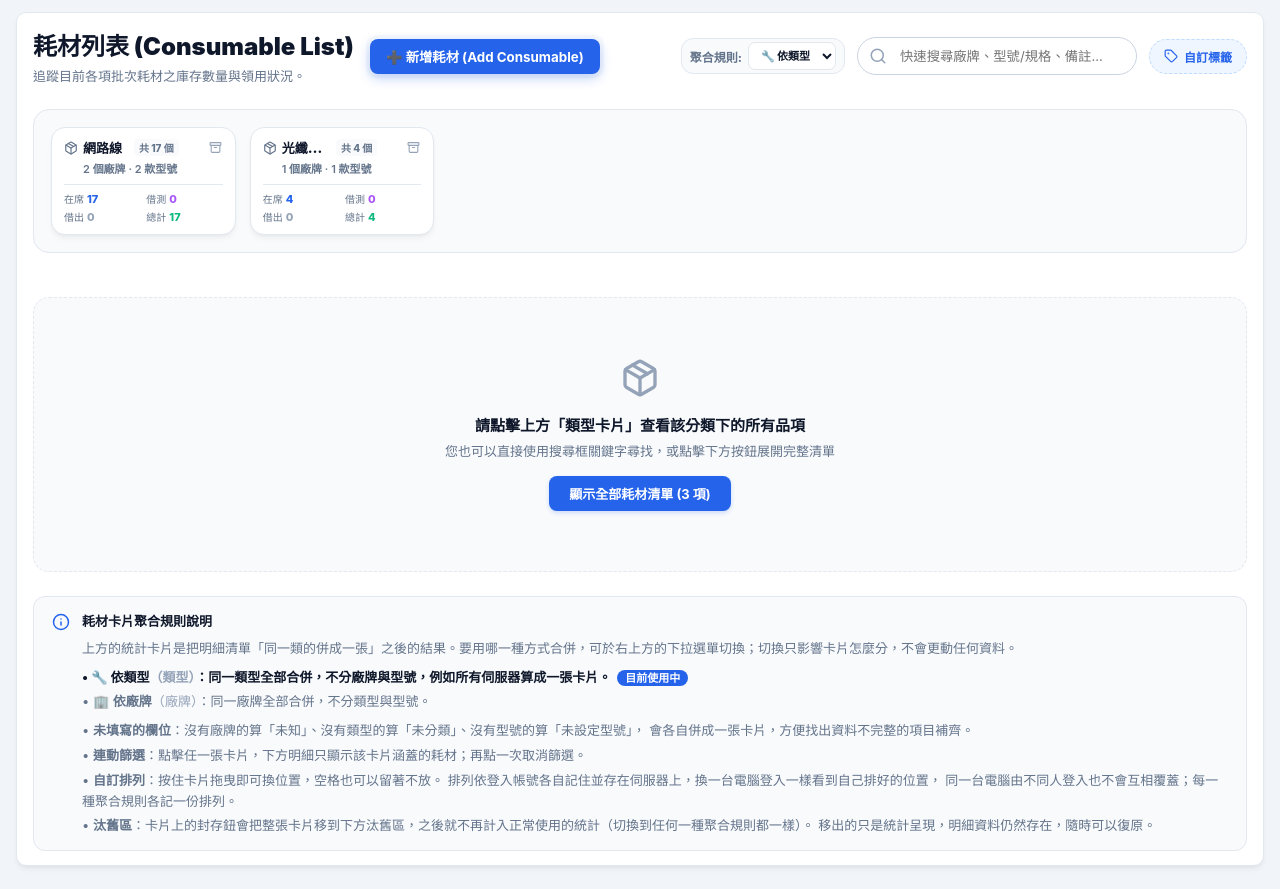
Test: 耗材卡片：依廠牌聚合 › 依廠牌時點卡片是以廠牌篩選明細
Select "🏢 依廠牌" in the dropdown labelled "聚合規則:" at (792, 56), box [748,42,836,70]
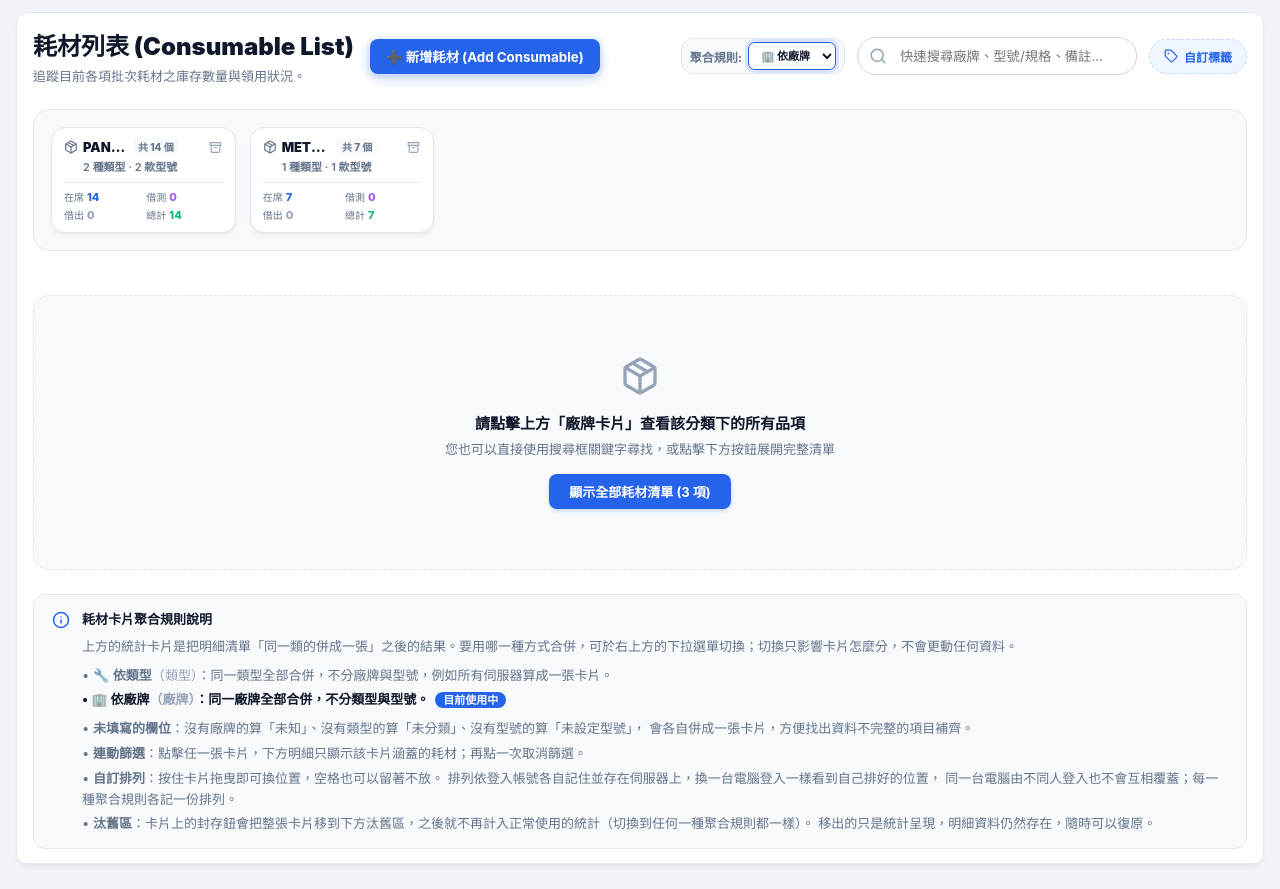
Click the text "METECH" at (307, 146), box [282,138,333,154]
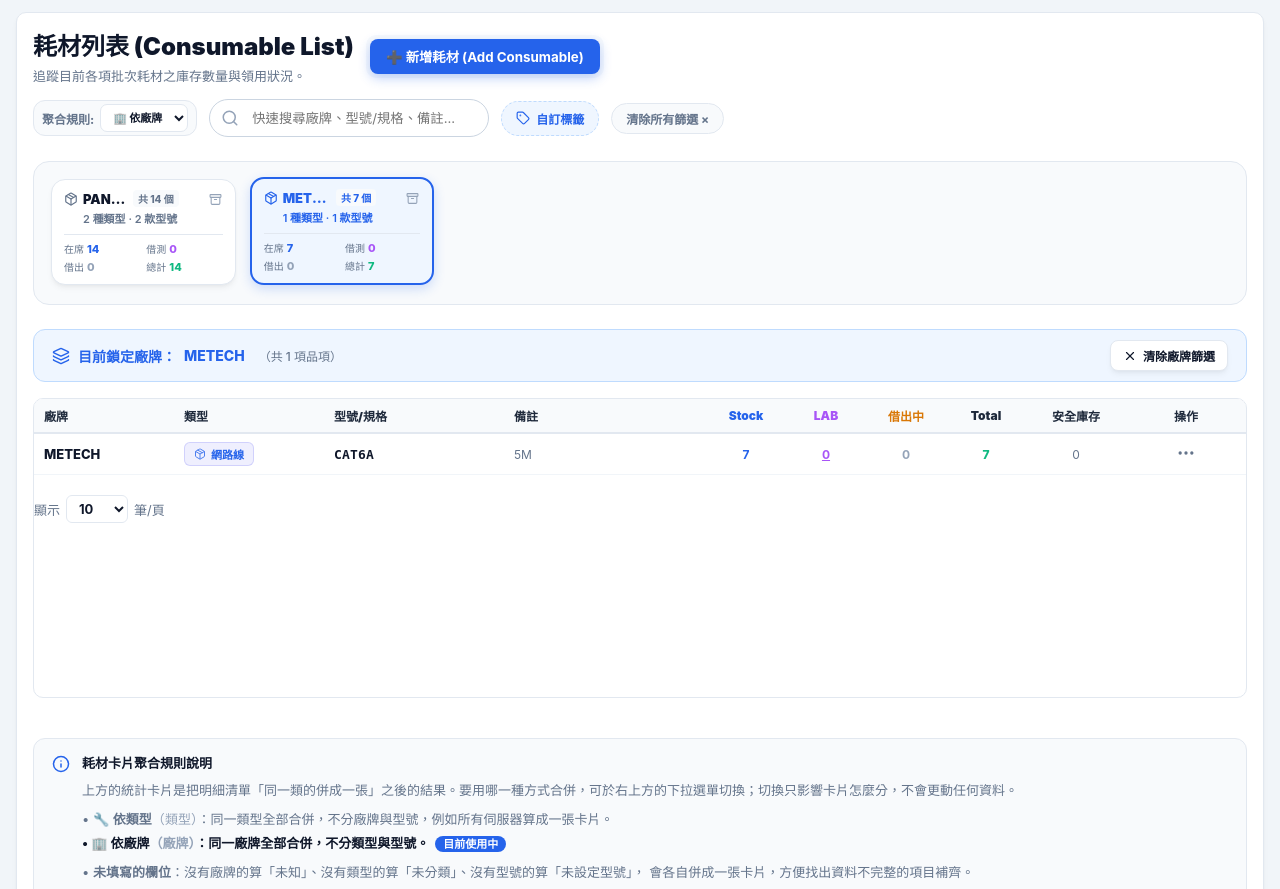
Now the text "目前鎖定廠牌： METECH （共 1 項品項）" is shown, box [52,346,342,366]
